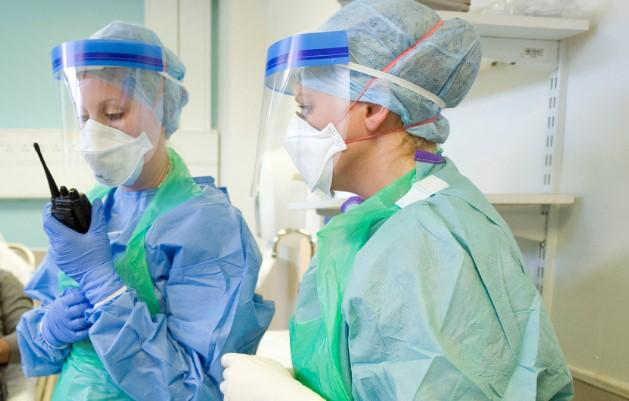Coverall: (267, 1, 574, 398), (19, 21, 267, 398)
Face_Shield: (49, 38, 183, 204), (250, 30, 358, 213)
Gloves: (43, 198, 111, 281), (219, 351, 323, 400), (46, 293, 93, 340)
with_mask: (77, 108, 150, 190), (286, 104, 343, 198)
